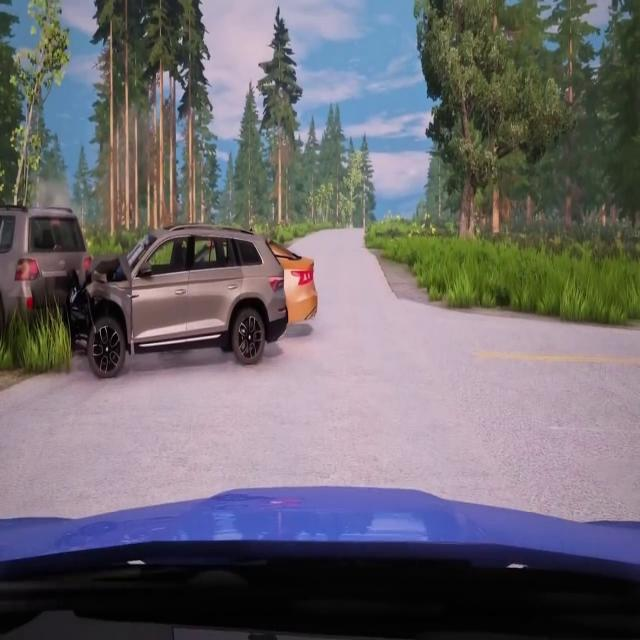accident: (3, 206, 287, 370)
